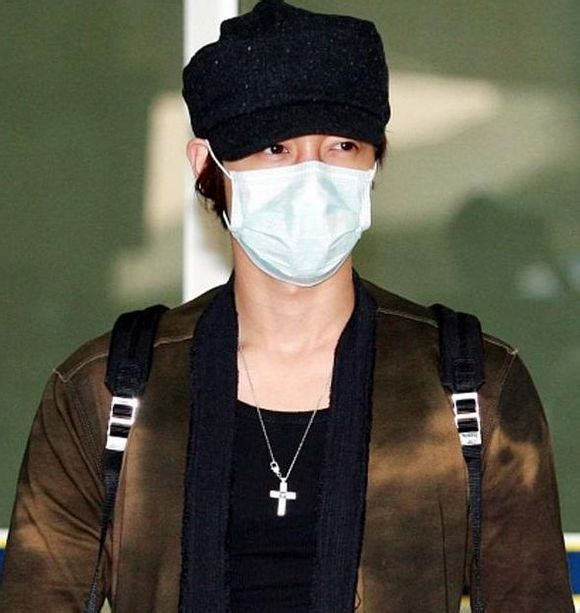face_mask: (223, 86, 376, 280)
